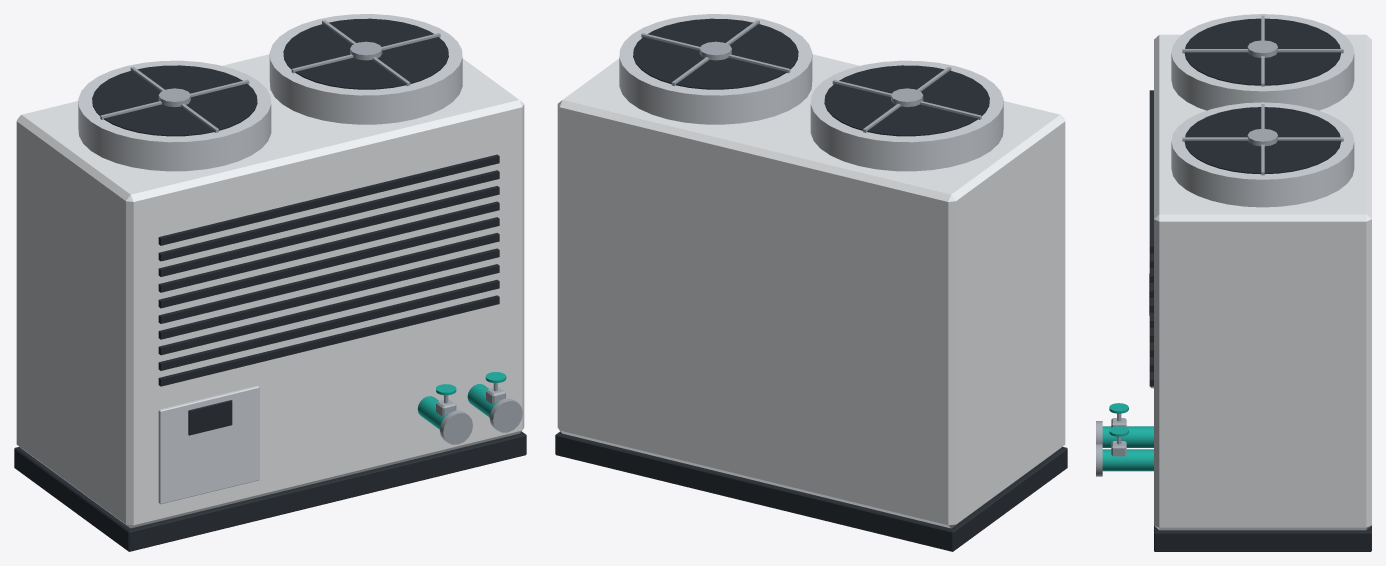
File: chiller-unit.glb
3 views of the same model, side by side, from view 1: azimuth 30°, elevation 25°; view 2: azimuth 150°, elevation 25°; view 3: azimuth 270°, elevation 25° (orthographic). The views are drawn at different scales.
Parts seen in each view (by area): view 1: chiller-unit; view 2: chiller-unit; view 3: chiller-unit.
Part boxes in pixels (x1=…): chiller-unit: x1=14, y1=14, x2=526, y2=551; chiller-unit: x1=555, y1=14, x2=1067, y2=551; chiller-unit: x1=1096, y1=14, x2=1371, y2=551.
Bounding box in the file's own units: 2 × 1.87 × 1.26.
